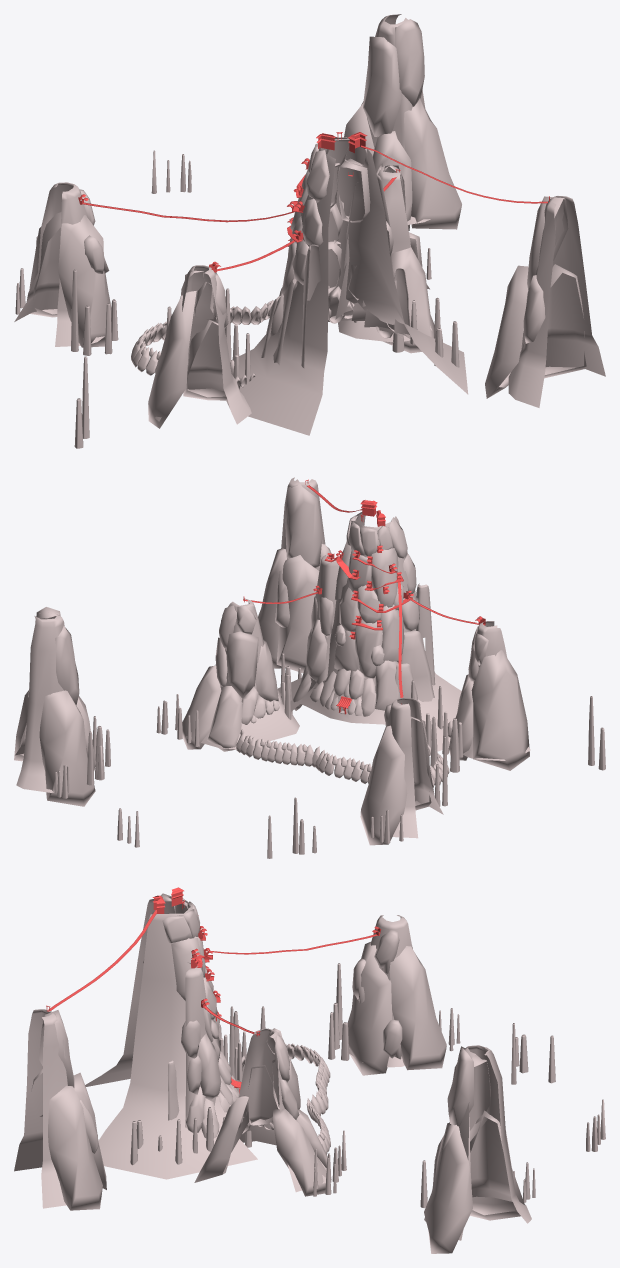
The model's file is montagne_vraie.fbx.
The picture shows the model from 3 angles, top to bottom: view 1: azimuth 30°, elevation 25°; view 2: azimuth 150°, elevation 25°; view 3: azimuth 270°, elevation 25°; orthographic projection. The views are drawn at different scales.
Parts seen in each view (by area): view 1: roche1, constructions; view 2: roche1, constructions; view 3: roche1, constructions.
Part boxes in pixels (x1,y1,x2,y2): roche1: (14,14,605,448); constructions: (78,132,549,272); roche1: (14,477,605,858); constructions: (243,479,485,714); roche1: (14,893,605,1253); constructions: (46,887,381,1093).
Size of the model in its own units: 14754 by 7028 by 15000.
